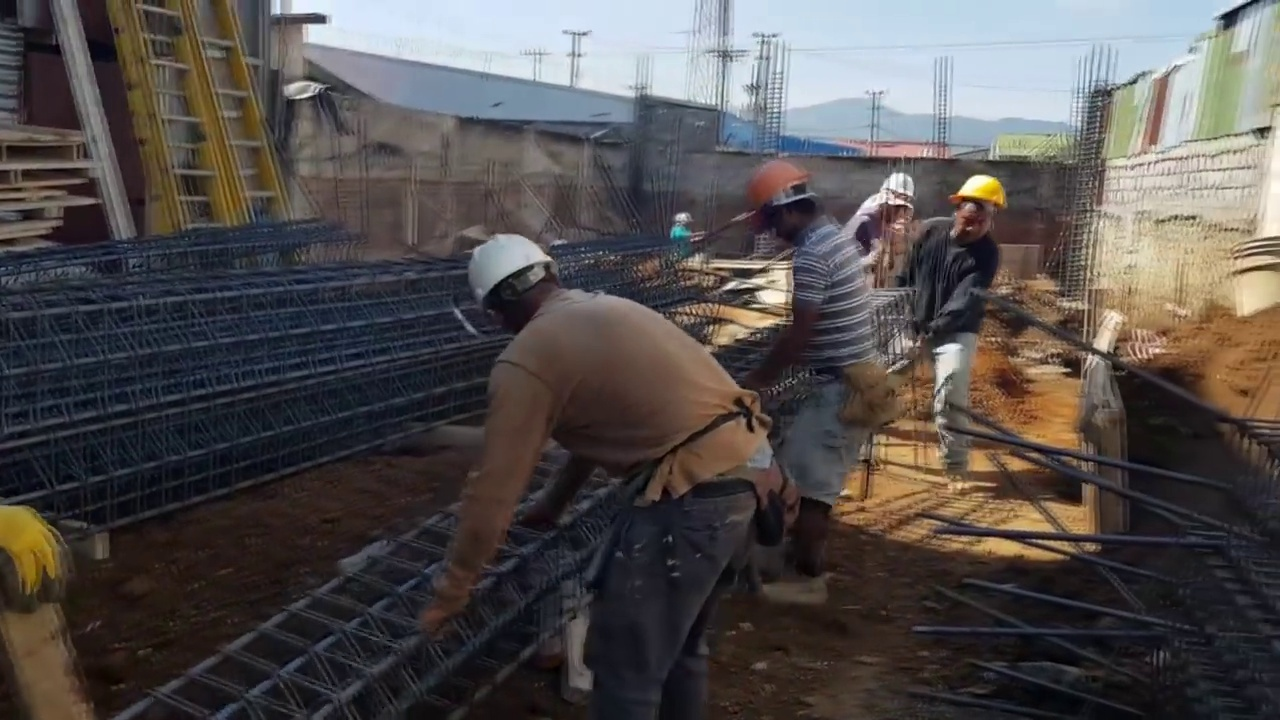helmet: (462, 231, 549, 311), (743, 162, 815, 211), (955, 178, 1009, 206), (879, 172, 914, 199), (675, 215, 690, 222)
helmet-on: (460, 227, 567, 336), (744, 158, 830, 248), (942, 177, 1010, 243), (872, 173, 915, 208), (675, 214, 690, 228)
person: (413, 227, 796, 718), (731, 155, 890, 595), (903, 165, 1004, 467), (843, 172, 916, 274), (670, 213, 692, 258)
